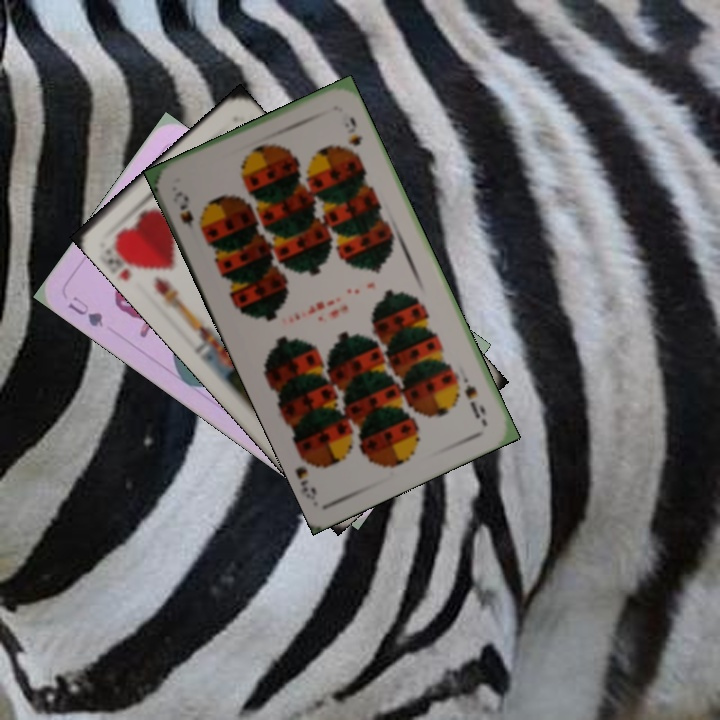GU: (64, 292, 106, 330)
HK: (109, 236, 143, 283)
S9: (459, 369, 488, 421), (168, 187, 197, 232)
